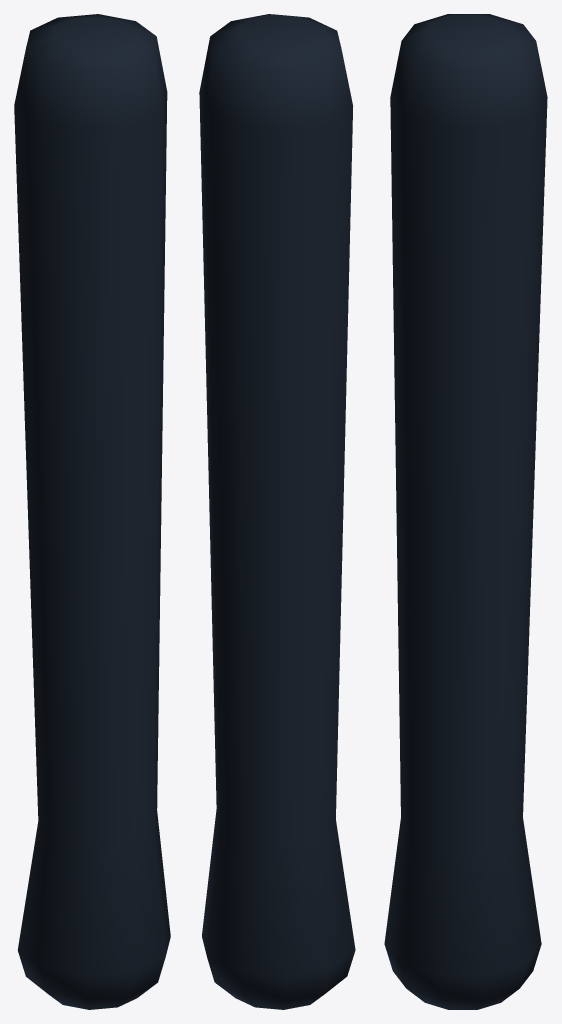
The model's file is Riot_Police_01_Baton.fbx.
The picture shows the model from 3 angles, left to right: view 1: azimuth 30°, elevation 25°; view 2: azimuth 150°, elevation 25°; view 3: azimuth 270°, elevation 25°; orthographic projection.
Parts seen in each view (by area): view 1: Riot_Police_01_Baton; view 2: Riot_Police_01_Baton; view 3: Riot_Police_01_Baton.
Part boxes in pixels (x1,y1,x2,y2): Riot_Police_01_Baton: [14, 14, 170, 1009]; Riot_Police_01_Baton: [199, 14, 355, 1009]; Riot_Police_01_Baton: [384, 14, 547, 1009].
Size of the model in its own units: 0.0858 by 0.6098 by 0.0932.
